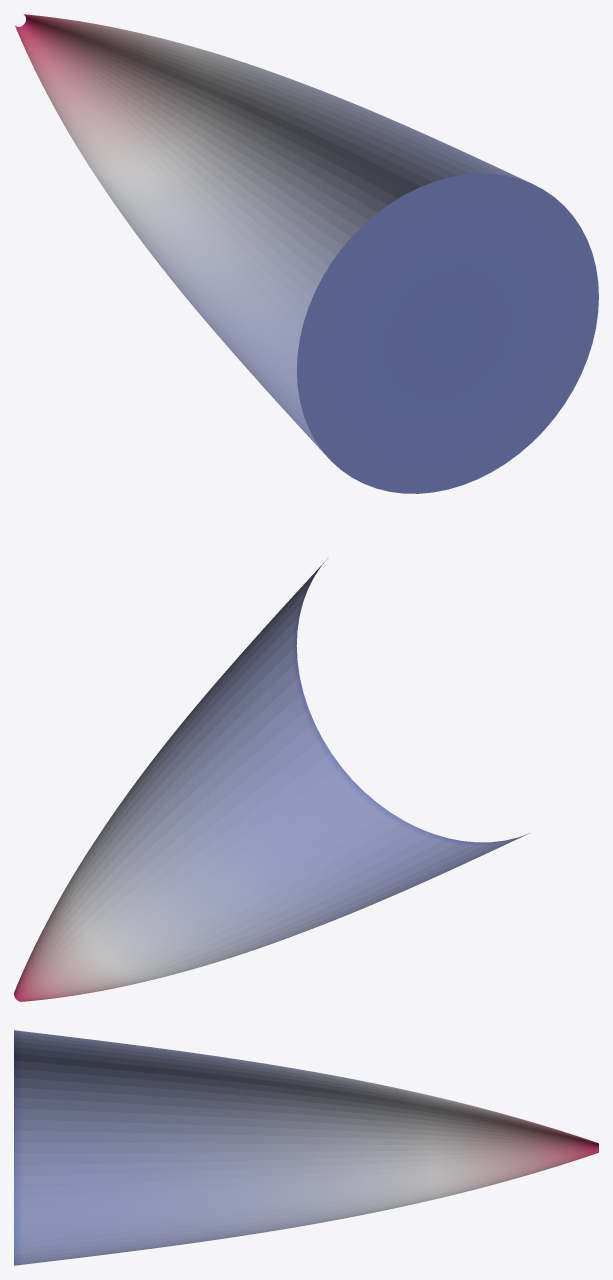
File: frame_020.glb
3 renders of one model, top to bottom at view 1: azimuth 30°, elevation 25°; view 2: azimuth 150°, elevation 25°; view 3: azimuth 270°, elevation 25°, orthographic. The views are drawn at different scales.
Visible parts, largest first — view 1: world; view 2: world; view 3: world.
Part boxes in pixels (x1,y1,x2,y2): world: (15, 14, 598, 493); world: (14, 558, 529, 1001); world: (14, 1030, 598, 1265).
Bounding box in the file's own units: 0.4078 × 0.4022 × 1.
